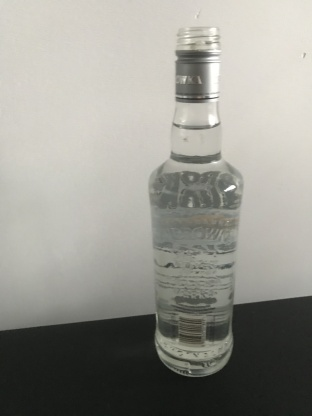nakretka: (173, 24, 222, 104)
